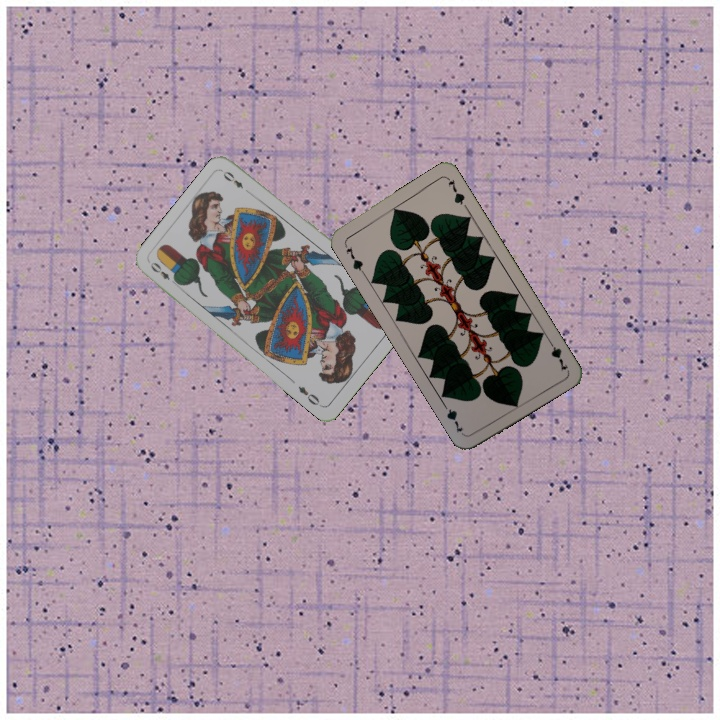EO: (146, 258, 181, 288)
G7: (544, 335, 570, 374), (340, 240, 367, 276)
